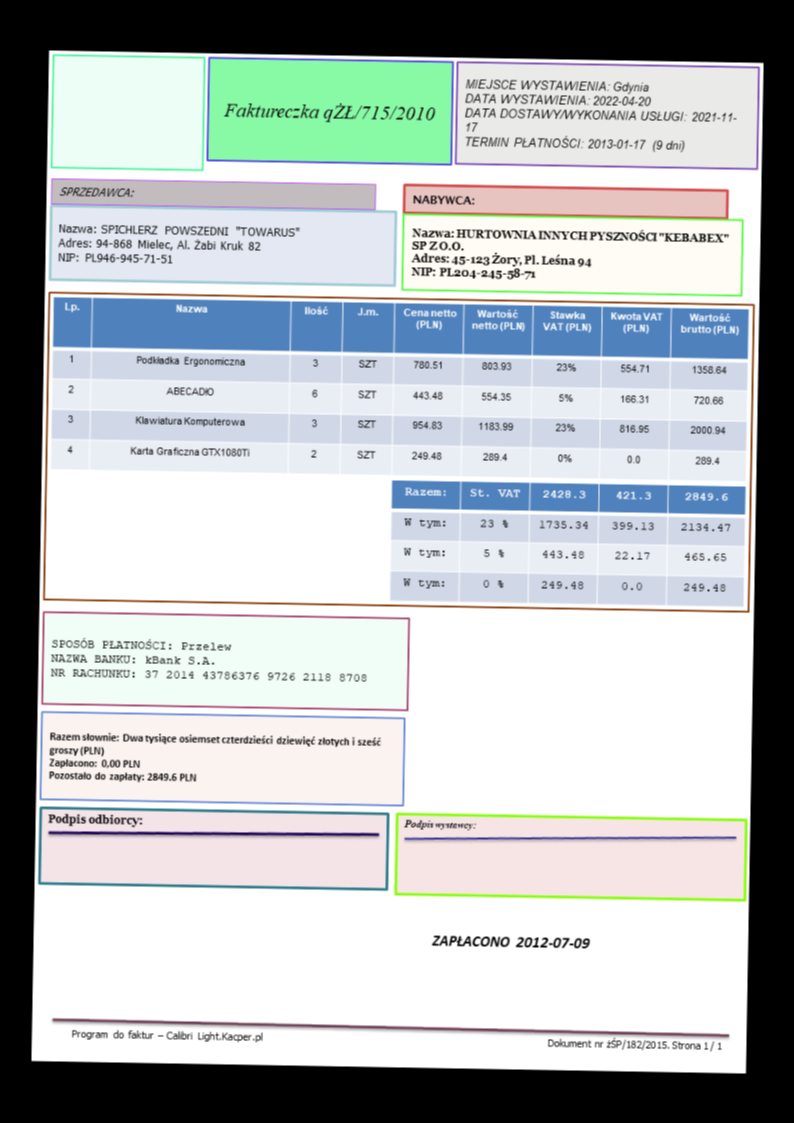Table: (48, 293, 747, 482), (388, 477, 747, 609)
TextBox: (462, 74, 738, 157), (46, 727, 382, 789), (407, 224, 733, 284), (47, 634, 370, 687), (54, 217, 302, 270), (218, 97, 437, 125), (67, 1024, 264, 1046), (429, 930, 592, 952), (545, 1034, 724, 1054), (44, 808, 143, 829), (400, 813, 476, 832), (57, 182, 134, 199), (409, 190, 475, 209)
